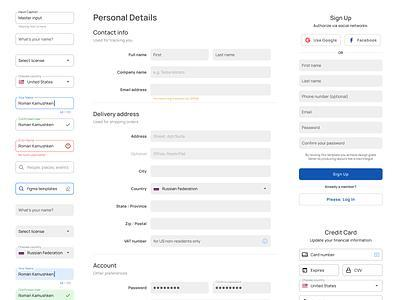button: (299, 168, 384, 181), (300, 194, 383, 207), (302, 35, 342, 47), (344, 35, 383, 47)
dropdown: (152, 184, 273, 196), (301, 281, 383, 293), (17, 247, 74, 260), (16, 56, 75, 68), (16, 77, 75, 89), (17, 227, 74, 238)
input: (152, 130, 273, 144), (151, 84, 271, 97), (152, 236, 272, 249), (151, 67, 273, 79), (150, 219, 272, 231), (152, 148, 272, 160), (153, 201, 272, 213), (152, 166, 271, 178), (299, 91, 384, 104), (300, 60, 383, 73), (300, 77, 384, 89), (300, 107, 384, 119), (300, 138, 384, 150), (299, 250, 383, 262), (300, 123, 383, 134), (16, 268, 74, 282), (150, 282, 210, 295), (16, 162, 76, 175), (214, 282, 272, 295), (16, 13, 75, 25), (152, 49, 210, 61), (214, 49, 272, 61), (17, 141, 75, 153), (17, 98, 75, 110), (17, 205, 74, 217), (16, 184, 75, 195), (15, 290, 76, 300), (16, 35, 74, 45), (17, 120, 73, 130), (343, 265, 384, 277), (300, 265, 340, 277)
label: (117, 70, 150, 77), (116, 203, 149, 210), (123, 237, 149, 245), (124, 219, 147, 227), (121, 88, 149, 94), (128, 286, 149, 292), (128, 53, 150, 58), (129, 152, 151, 157), (129, 188, 149, 193), (131, 135, 149, 140), (139, 170, 149, 175)
